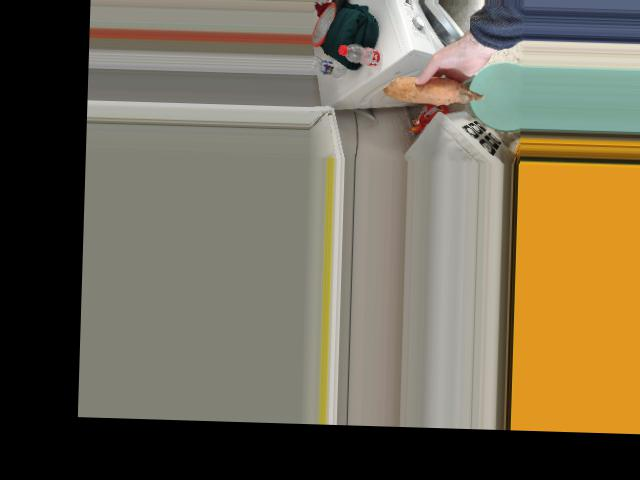sweet_potato: (394, 72, 476, 105)
